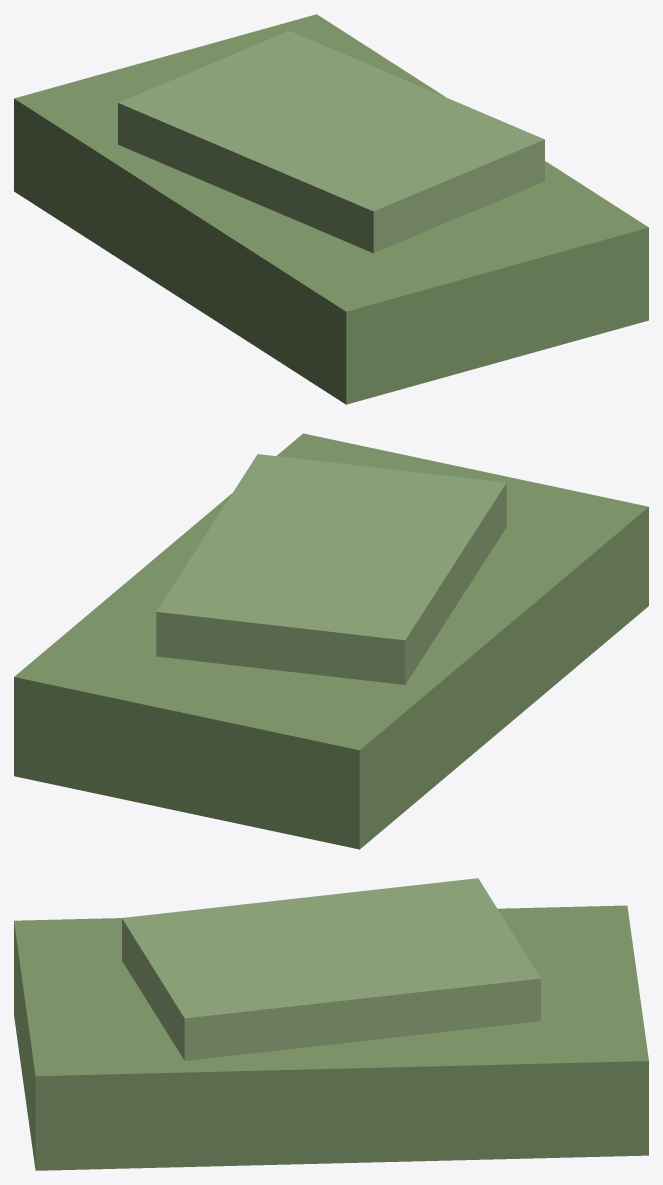
File: structure.glb
3 views of the same model, one above another, from view 1: azimuth 30°, elevation 25°; view 2: azimuth 150°, elevation 25°; view 3: azimuth 270°, elevation 25° (orthographic). The views are drawn at different scales.
Parts seen in each view (by area): view 1: Box1, Box2; view 2: Box1, Box2; view 3: Box1, Box2.
Boxes of the visible parts, left/top/right/bottom form: Box1: left=14, top=14, right=648, bottom=404; Box2: left=118, top=31, right=544, bottom=253; Box1: left=14, top=433, right=648, bottom=849; Box2: left=156, top=454, right=506, bottom=684; Box1: left=14, top=905, right=648, bottom=1170; Box2: left=122, top=878, right=540, bottom=1060.
Size of the model in its own units: 59.66 by 22.35 by 93.77.
